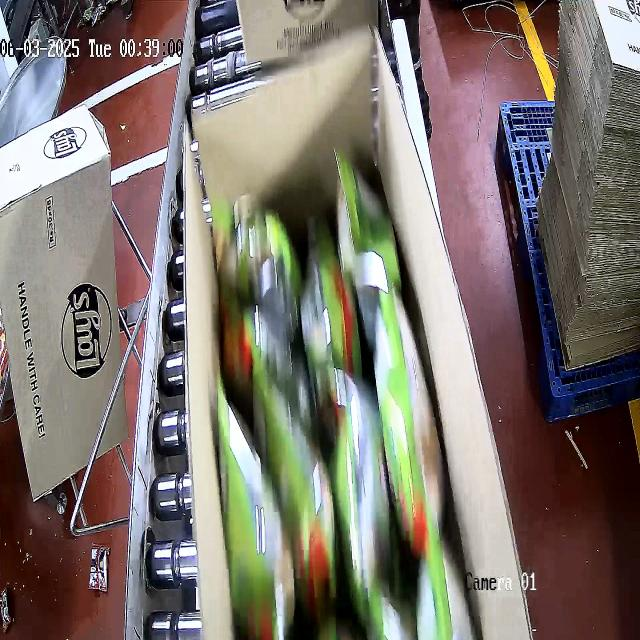YOGURT_HERB: (202, 178, 463, 640)
